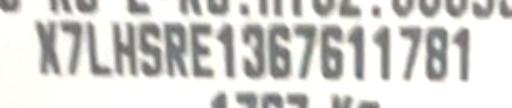letter: (316, 21, 346, 81), (161, 19, 191, 78), (32, 19, 62, 76), (83, 19, 113, 76), (394, 23, 422, 83), (187, 21, 215, 80), (265, 21, 293, 80), (423, 24, 451, 82), (136, 21, 164, 78), (241, 21, 267, 81), (370, 23, 396, 83), (110, 21, 138, 76), (292, 21, 318, 80), (59, 19, 85, 76), (214, 23, 238, 80), (451, 26, 473, 82), (347, 21, 367, 81)
